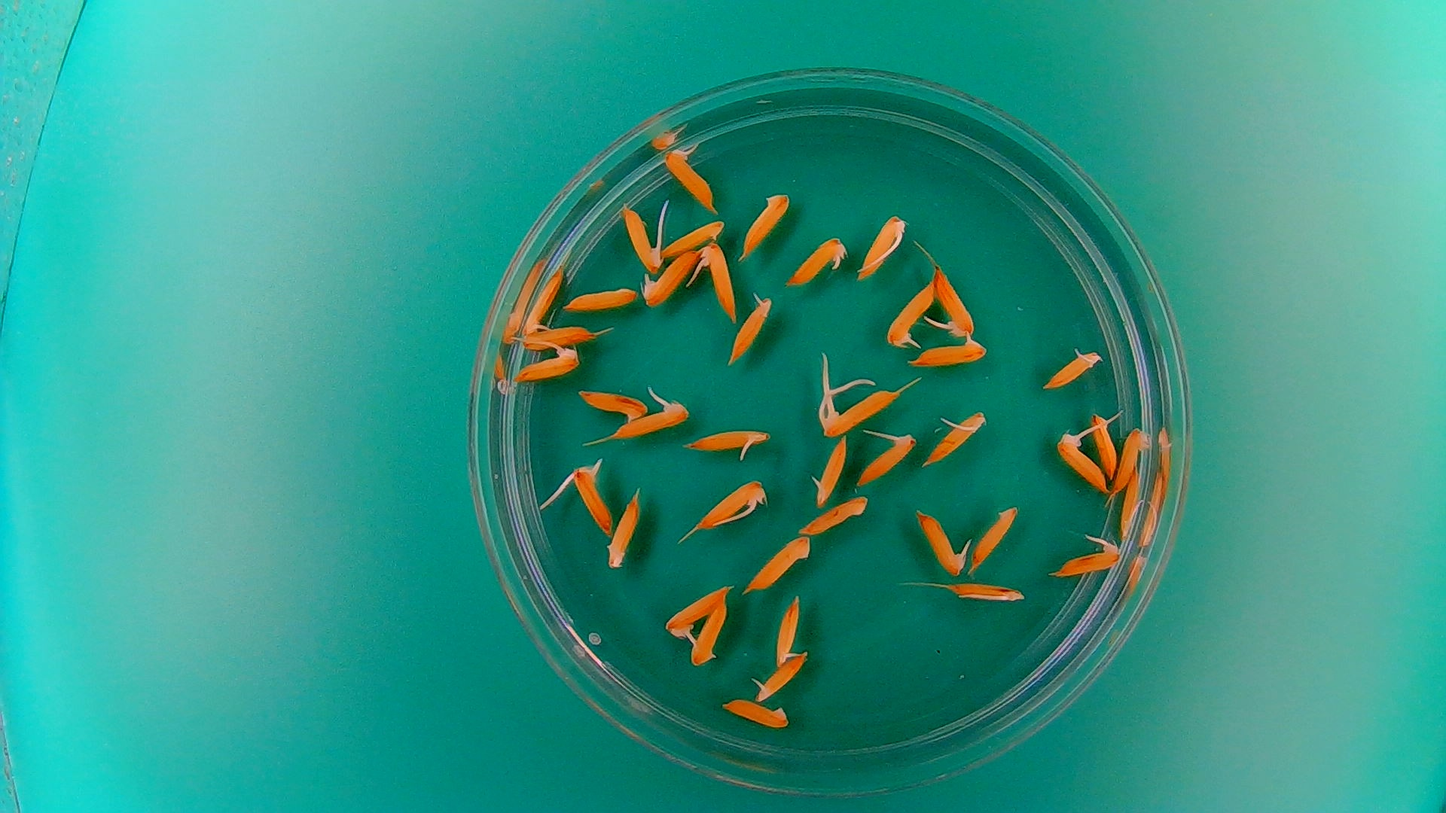no: (743, 532, 813, 594), (740, 188, 792, 258), (970, 501, 1020, 571), (795, 492, 872, 536), (604, 486, 642, 571), (688, 596, 730, 667), (1110, 424, 1152, 495), (657, 216, 727, 258), (575, 385, 650, 424), (718, 695, 790, 730), (563, 284, 639, 313), (521, 321, 595, 349), (1117, 469, 1142, 540)
yes: (817, 385, 903, 437), (691, 475, 769, 532), (920, 406, 987, 468), (912, 506, 969, 578), (663, 582, 732, 641), (609, 391, 692, 440), (883, 276, 937, 349), (565, 455, 613, 537), (660, 142, 716, 212), (856, 210, 909, 283), (1054, 426, 1109, 494), (639, 248, 701, 308), (855, 428, 918, 487), (783, 232, 849, 288), (697, 237, 740, 322), (944, 574, 1027, 617), (682, 422, 773, 461), (726, 289, 773, 364), (618, 200, 664, 273), (520, 265, 566, 336), (932, 264, 977, 336), (1051, 534, 1124, 578), (751, 650, 808, 702), (910, 332, 990, 369), (1040, 345, 1104, 391), (810, 435, 849, 508), (512, 343, 581, 383), (770, 592, 804, 669), (1087, 409, 1118, 477)
